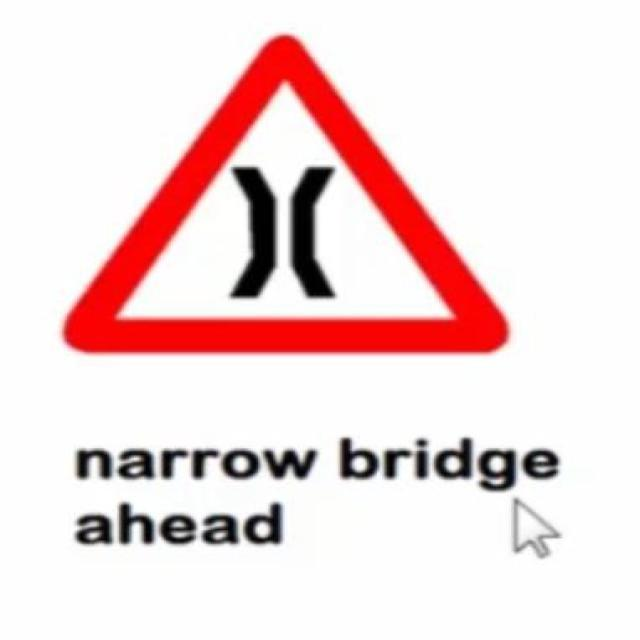narrow bridge ahead: (63, 27, 507, 354)
